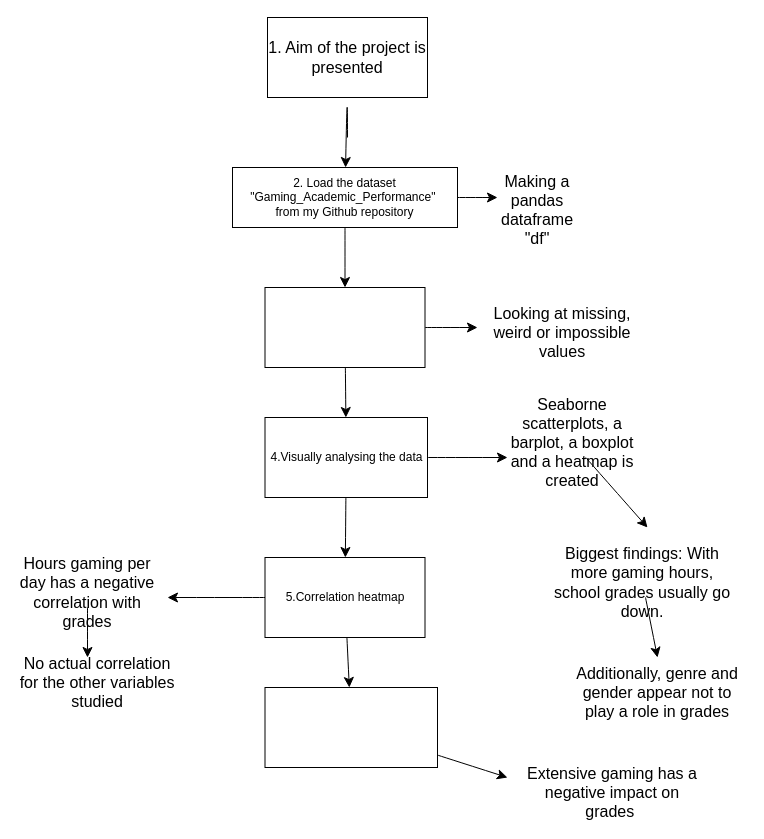
Some shapes in this 764 by 839 pixel diagram are drawn without their labels. The centre of each missing label's shape, as x and y in pixels:
3. Getting an overview of the data (determining if we need to clean it): the point at 344,327
6.Gemini analysis of the correlation heatmap: the point at 351,727
